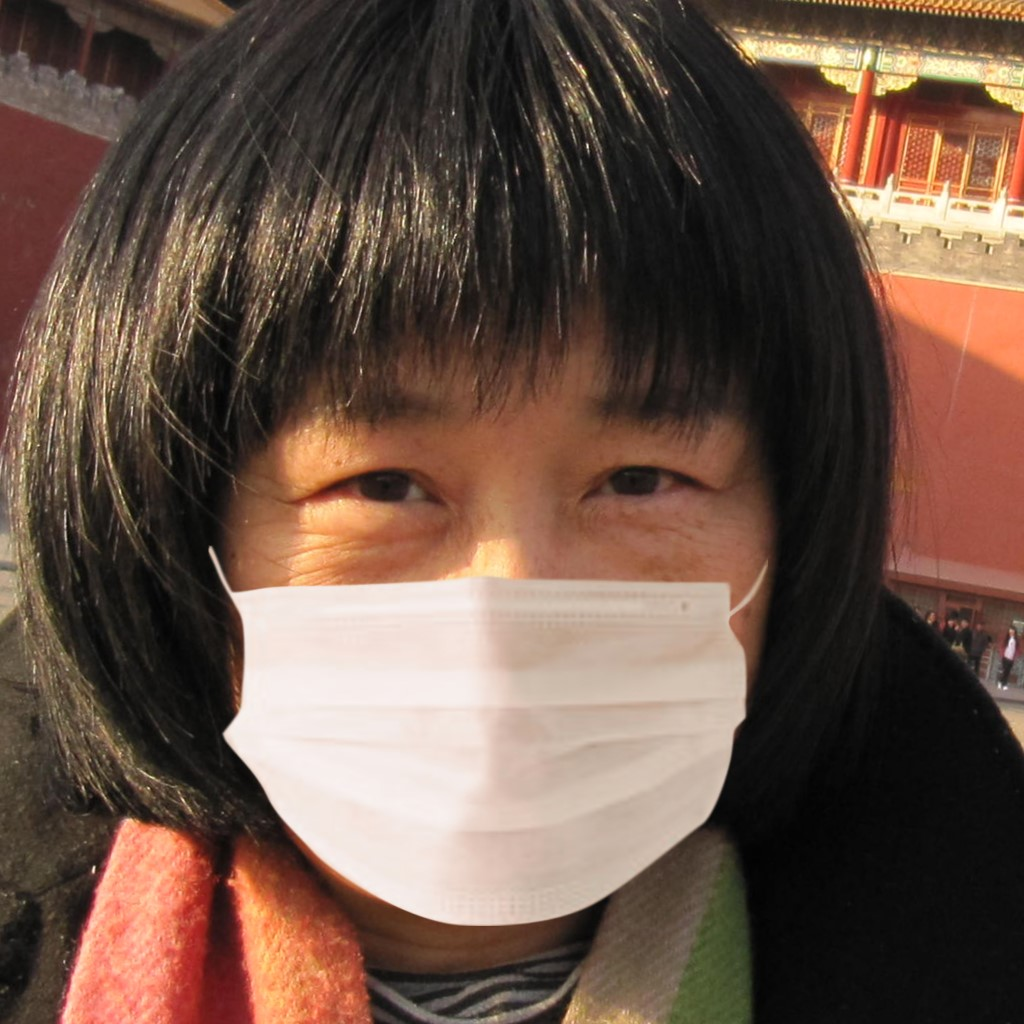con_mascara: (199, 118, 784, 902)
